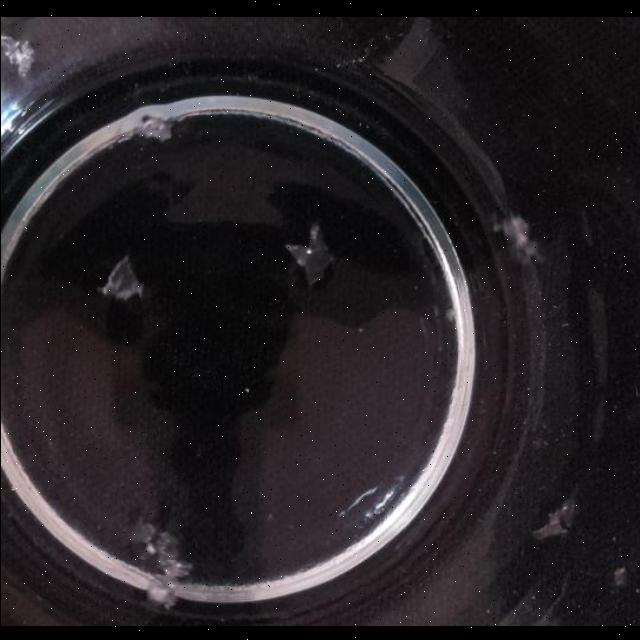Fibre: (126, 520, 192, 606), (287, 226, 341, 284), (90, 250, 142, 298), (496, 212, 540, 262), (530, 497, 574, 539), (1, 31, 36, 75), (136, 112, 176, 140)
microbeads: (612, 565, 626, 585), (264, 511, 274, 521), (355, 324, 363, 331)
